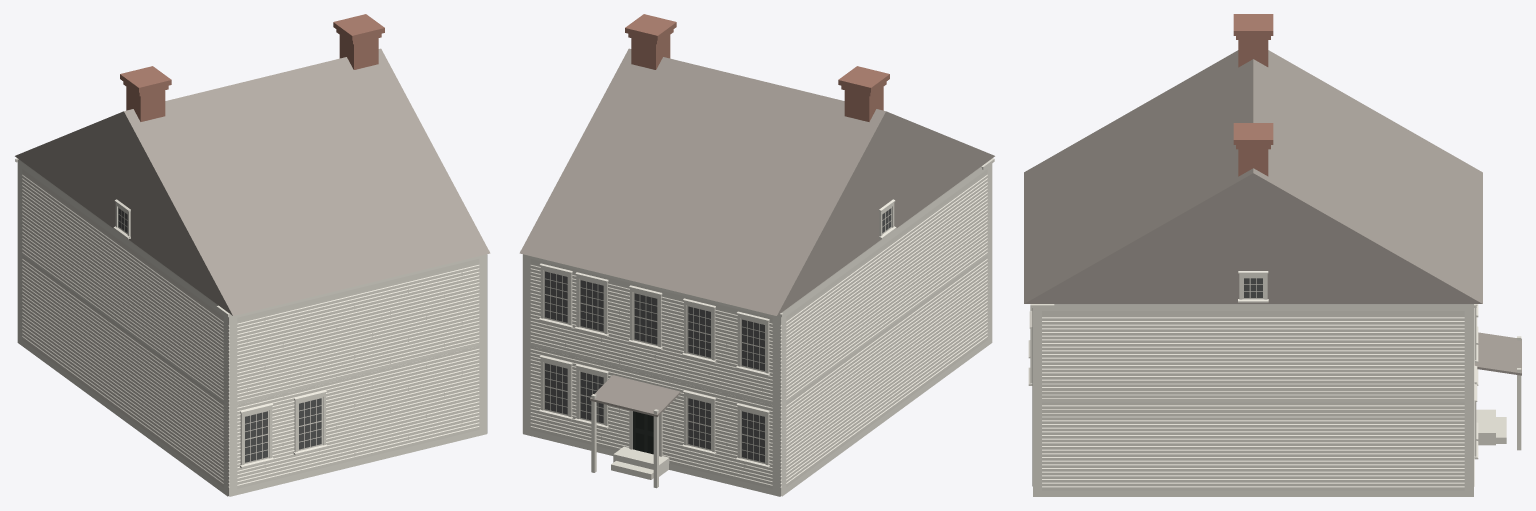
File: recon_1835_blk_washington_dearborn_h2_05__inferred_1835.glb
3 views of the same model, side by side, from view 1: azimuth 30°, elevation 25°; view 2: azimuth 150°, elevation 25°; view 3: azimuth 270°, elevation 25° (orthographic). The views are drawn at different scales.
Parts seen in each view (by area): view 1: recon_1835_blk_washington_dearborn_h2_05__inferred_1835; view 2: recon_1835_blk_washington_dearborn_h2_05__inferred_1835; view 3: recon_1835_blk_washington_dearborn_h2_05__inferred_1835.
Boxes of the visible parts, x1,y1,x2,y2 form: recon_1835_blk_washington_dearborn_h2_05__inferred_1835: (15,14,490,496); recon_1835_blk_washington_dearborn_h2_05__inferred_1835: (519,14,994,496); recon_1835_blk_washington_dearborn_h2_05__inferred_1835: (1024,14,1521,496).
Size of the model in its own units: 8.97 by 10.97 by 14.
